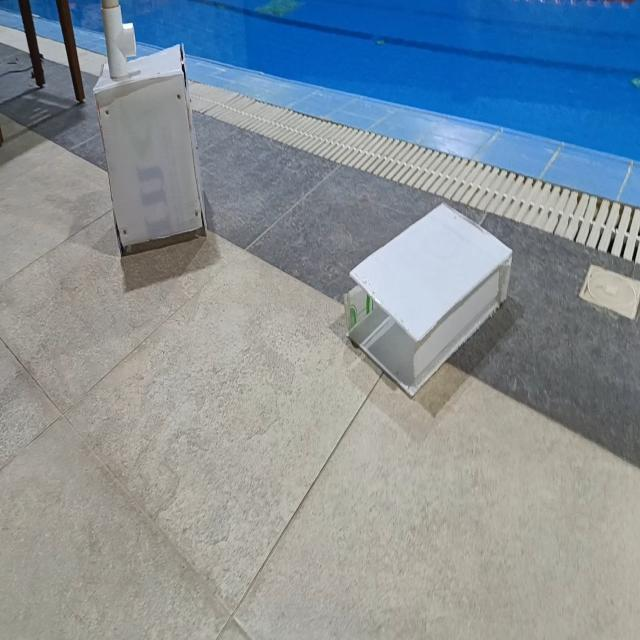Cube: (92, 42, 206, 255)
Cuboid: (344, 200, 513, 398)
